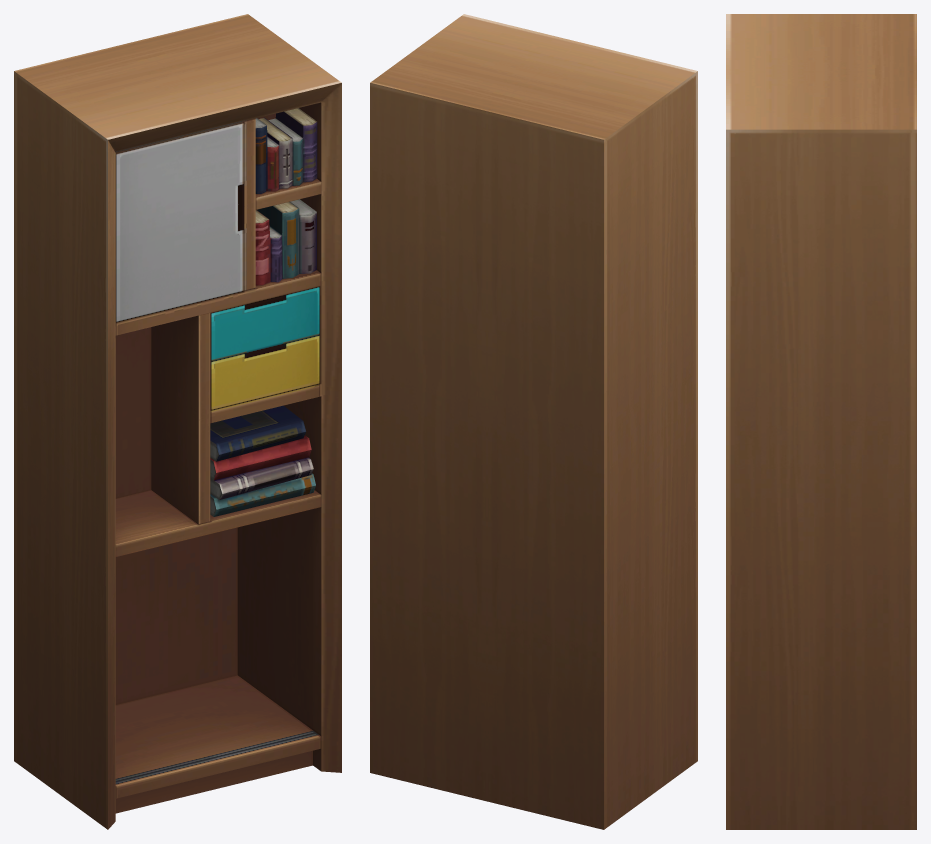
Rendered from power_tower_bookcase.glb.
The picture shows the model from 3 angles, left to right: view 1: azimuth 30°, elevation 25°; view 2: azimuth 150°, elevation 25°; view 3: azimuth 270°, elevation 25°; orthographic projection.
Parts seen in each view (by area): view 1: TinyLiving_PowerTowerBookcase; view 2: TinyLiving_PowerTowerBookcase; view 3: TinyLiving_PowerTowerBookcase.
Boxes of the visible parts, x1=… form: TinyLiving_PowerTowerBookcase: x1=14, y1=14, x2=341, y2=829; TinyLiving_PowerTowerBookcase: x1=370, y1=14, x2=697, y2=829; TinyLiving_PowerTowerBookcase: x1=726, y1=14, x2=916, y2=829.
Bounding box in the file's own units: 0.85 × 2.4 × 0.5916.
Materials: 1 (1 with a texture image).
